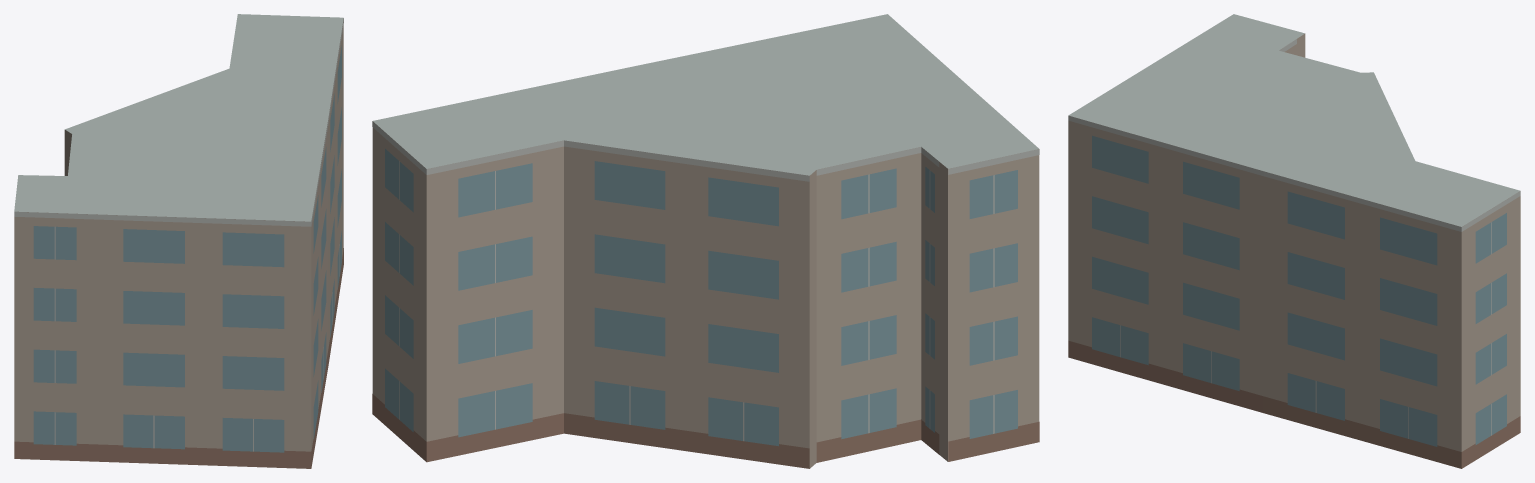
File: survey-upis-32913687.glb
The picture shows the model from 3 angles, left to right: view 1: azimuth 30°, elevation 25°; view 2: azimuth 150°, elevation 25°; view 3: azimuth 270°, elevation 25°; orthographic projection. The views are drawn at different scales.
Parts seen in each view (by area): view 1: survey-upis-32913687.tmp; view 2: survey-upis-32913687.tmp; view 3: survey-upis-32913687.tmp.
Part boxes in pixels (bbox=[...]): survey-upis-32913687.tmp: bbox=[14, 14, 343, 468]; survey-upis-32913687.tmp: bbox=[372, 14, 1039, 468]; survey-upis-32913687.tmp: bbox=[1068, 14, 1520, 468].
Bounding box in the file's own units: 22.1 × 11.7 × 19.84.
